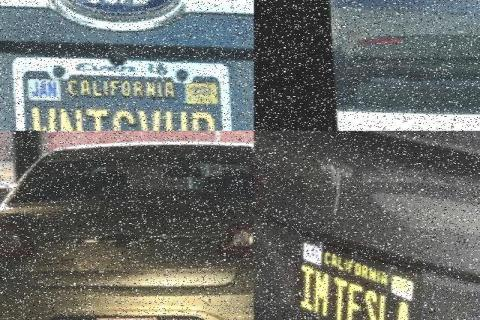LicensePlate: (0, 50, 238, 130), (285, 237, 414, 319), (430, 0, 480, 20)
